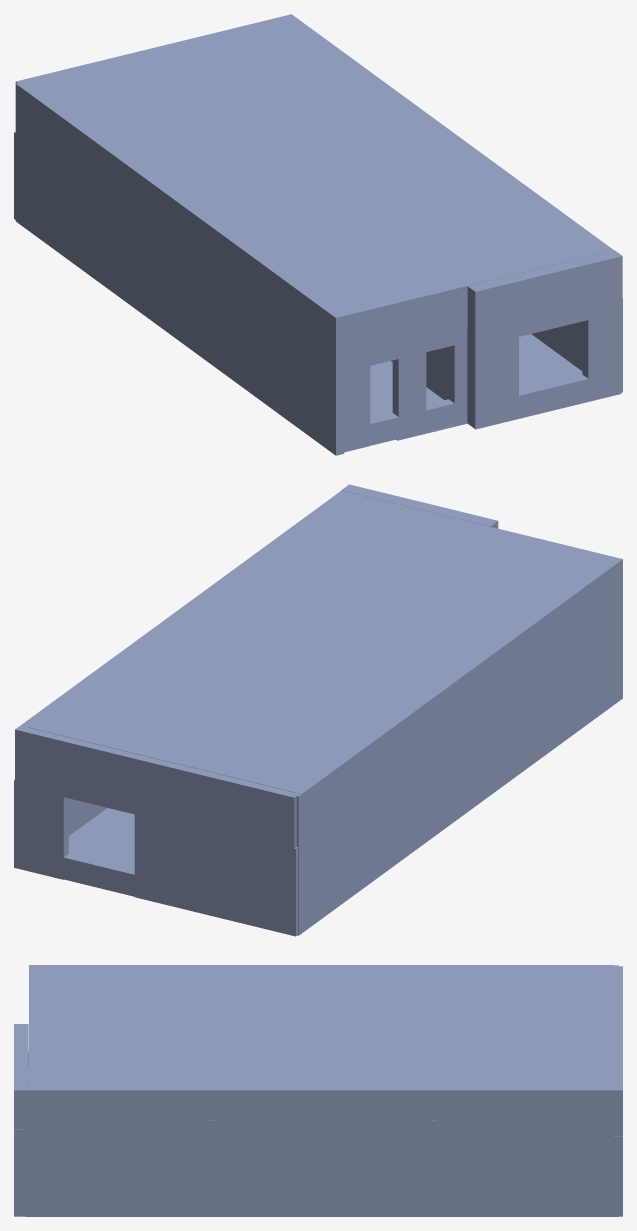
File: HouseB_TopFloor_collision.fbx
The picture shows the model from 3 angles, top to bottom: view 1: azimuth 30°, elevation 25°; view 2: azimuth 150°, elevation 25°; view 3: azimuth 270°, elevation 25°; orthographic projection. The views are drawn at different scales.
Parts seen in each view (by area): view 1: HouseB_TopFloor_collision; view 2: HouseB_TopFloor_collision; view 3: HouseB_TopFloor_collision.
Part boxes in pixels (<box>): HouseB_TopFloor_collision: <box>14,14,622,455</box>; HouseB_TopFloor_collision: <box>14,484,622,936</box>; HouseB_TopFloor_collision: <box>14,965,622,1216</box>.
Bounding box in the file's own units: 999 × 472 × 2049.
